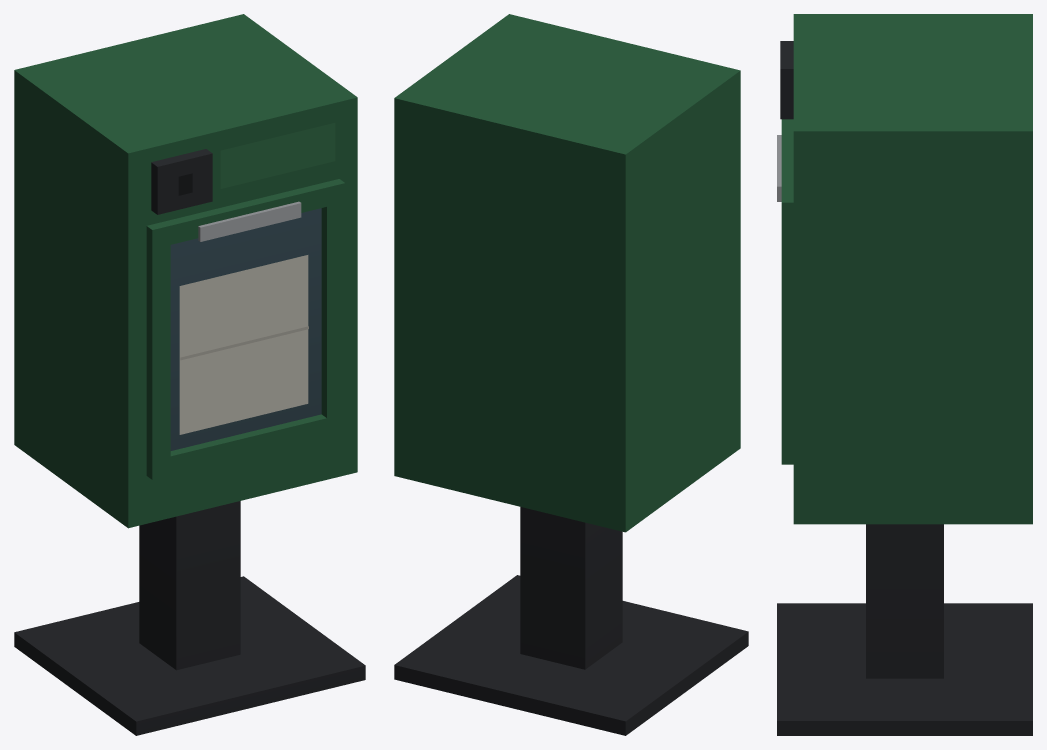
The model's file is street.newsbox.green.glb.
The picture shows the model from 3 angles, left to right: view 1: azimuth 30°, elevation 25°; view 2: azimuth 150°, elevation 25°; view 3: azimuth 270°, elevation 25°; orthographic projection. The views are drawn at different scales.
Parts seen in each view (by area): view 1: street_newsbox_green; view 2: street_newsbox_green; view 3: street_newsbox_green.
Part boxes in pixels (x1,y1,x2,y2): street_newsbox_green: (14, 14, 365, 735); street_newsbox_green: (394, 14, 748, 735); street_newsbox_green: (777, 14, 1032, 735).
Size of what is drawn, in the model's own units: 0.5 by 1.2 by 0.46.
